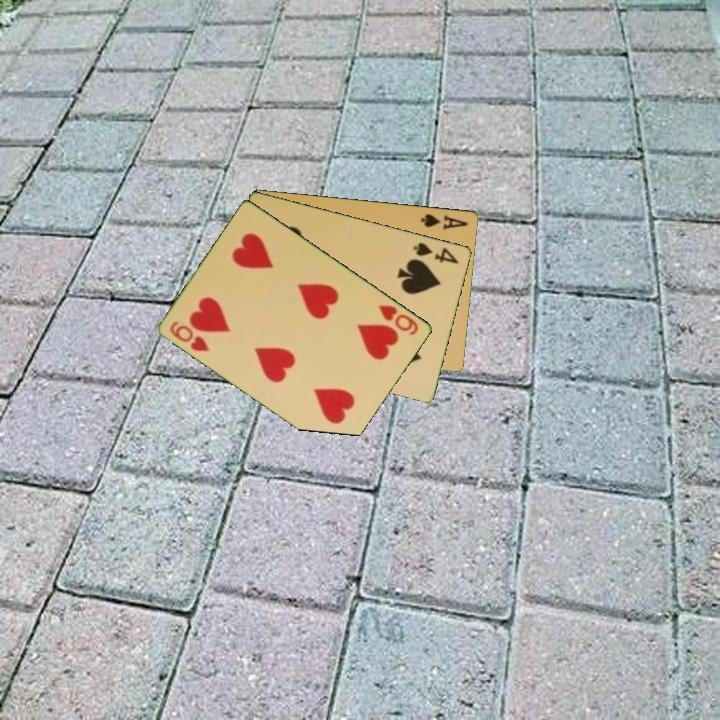4s: (410, 239, 462, 267)
6h: (375, 301, 422, 338), (167, 317, 213, 354)
As: (418, 210, 471, 233)
